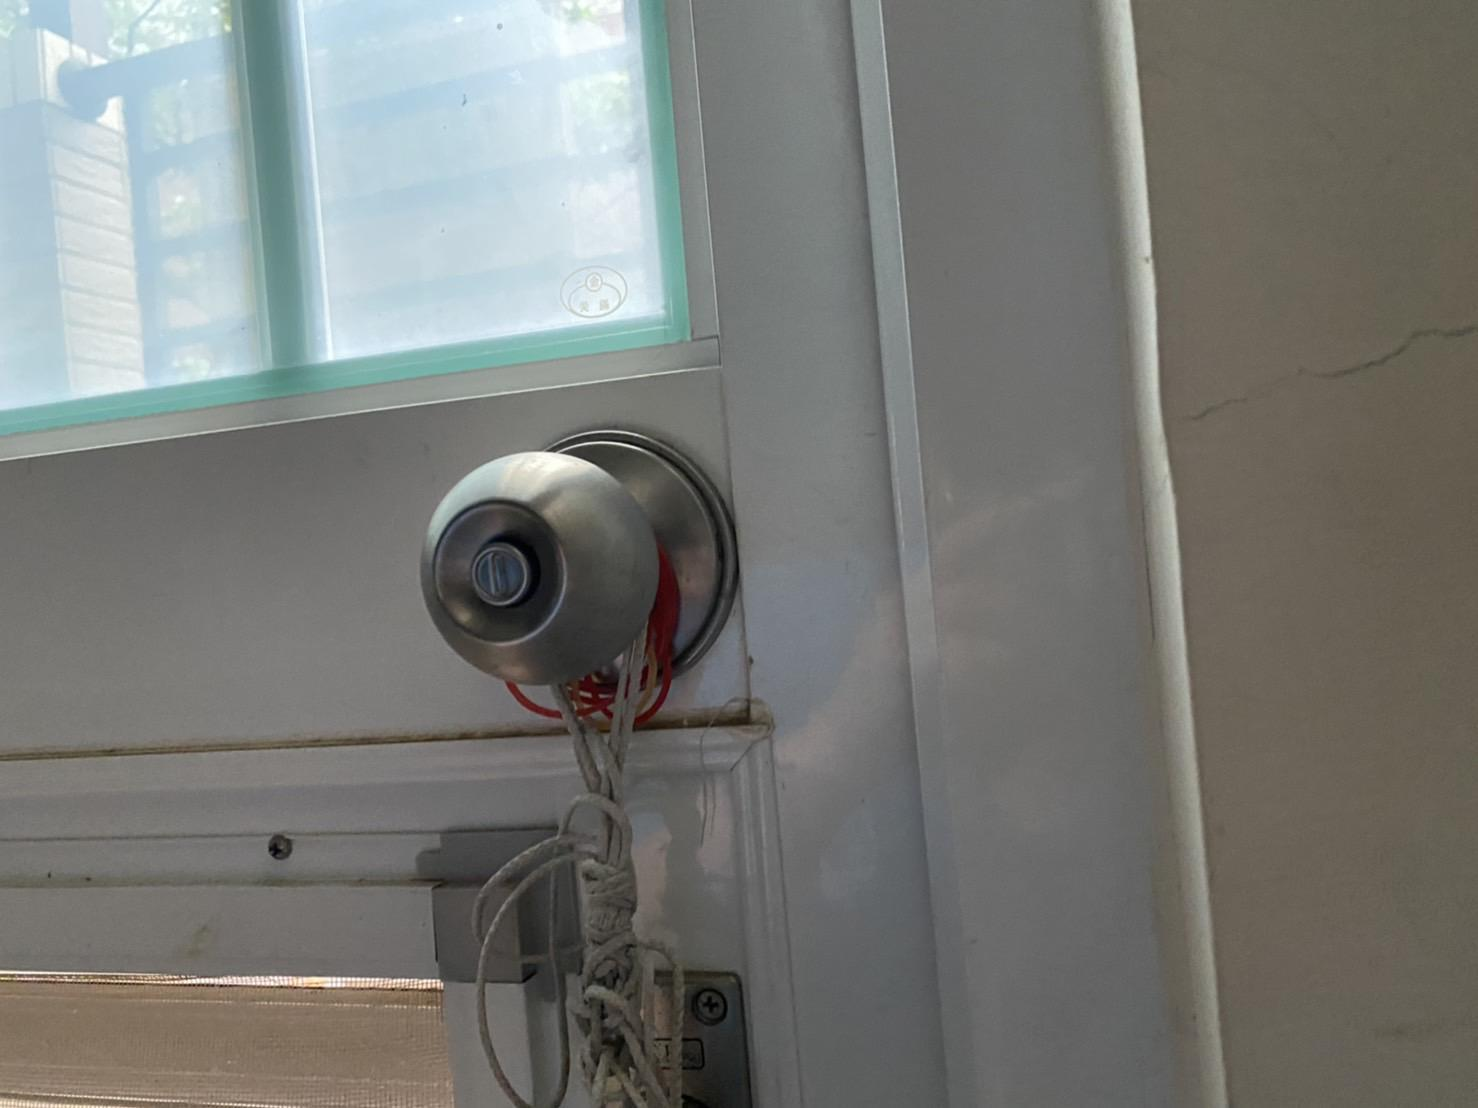doorhandle: (365, 403, 741, 710)
